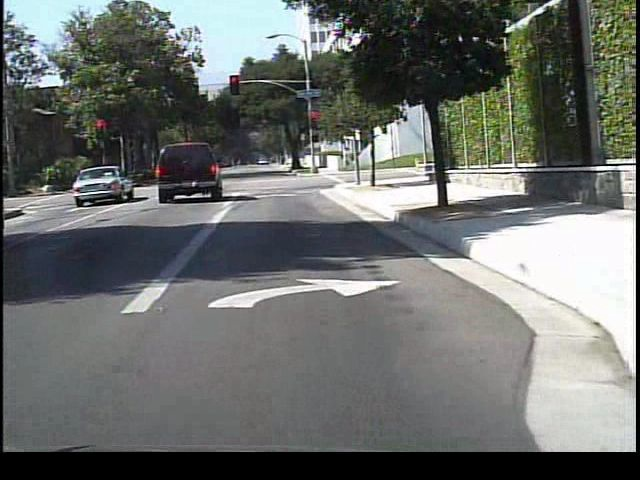person: (338, 144, 353, 172)
